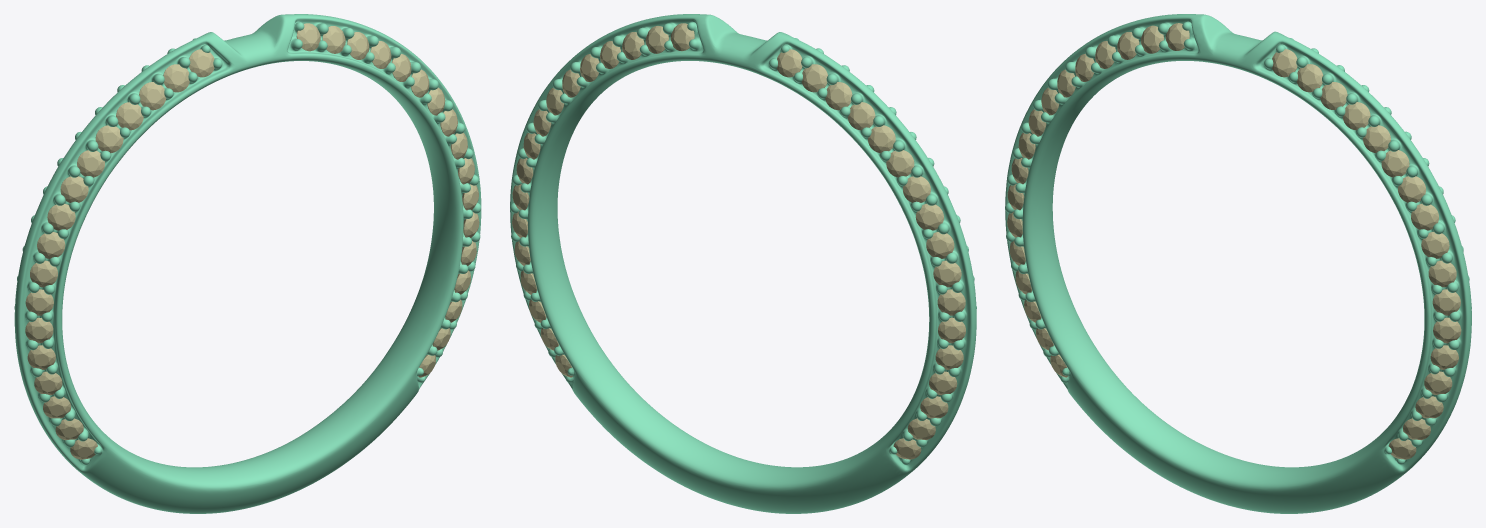
3 renders of one model, left to right at view 1: azimuth 30°, elevation 25°; view 2: azimuth 150°, elevation 25°; view 3: azimuth 330°, elevation 25°, orthographic.
Visible parts, largest first — view 1: Metal02, Diamond_Gem.012, Diamond_Gem.064, Diamond_Gem.066, Diamond_Gem.051, Diamond_Gem.065, Diamond_Gem.037, Diamond_Gem.067, Diamond_Gem.036, Diamond_Gem.038, Diamond_Gem.023, Diamond_Gem.011 (+2 smaller); view 2: Metal02, Diamond_Gem.053, Diamond_Gem.024, Diamond_Gem.014, Diamond_Gem.015, Diamond_Gem.003, Diamond_Gem.013, Diamond_Gem.039, Diamond_Gem.025, Diamond_Gem.040, Diamond_Gem.052, Diamond_Gem.016 (+2 smaller); view 3: Metal02, Diamond_Gem.048, Diamond_Gem.047, Diamond_Gem.002, Diamond_Gem.033, Diamond_Gem.059, Diamond_Gem.046, Diamond_Gem.008, Diamond_Gem.034, Diamond_Gem.009, Diamond_Gem.058, Diamond_Gem (+2 smaller).
Part boxes in pixels (<box>): Metal02: <box>14,14,481,513</box>; Diamond_Gem.012: <box>60,176,88,202</box>; Diamond_Gem.064: <box>47,203,75,230</box>; Diamond_Gem.066: <box>139,82,166,110</box>; Diamond_Gem.051: <box>95,125,123,153</box>; Diamond_Gem.065: <box>77,150,104,177</box>; Diamond_Gem.037: <box>116,102,143,130</box>; Diamond_Gem.067: <box>163,64,189,92</box>; Diamond_Gem.036: <box>37,232,65,258</box>; Diamond_Gem.038: <box>189,49,214,77</box>; Diamond_Gem.023: <box>30,260,57,287</box>; Diamond_Gem.011: <box>25,289,53,315</box>; Metal02: <box>510,14,976,513</box>; Diamond_Gem.053: <box>886,150,914,177</box>; Diamond_Gem.024: <box>868,125,895,153</box>; Diamond_Gem.014: <box>847,102,875,130</box>; Diamond_Gem.015: <box>903,176,930,202</box>; Diamond_Gem.003: <box>915,203,943,230</box>; Diamond_Gem.013: <box>825,82,852,110</box>; Diamond_Gem.039: <box>801,64,827,92</box>; Diamond_Gem.025: <box>926,232,954,258</box>; Diamond_Gem.040: <box>933,260,961,287</box>; Diamond_Gem.052: <box>777,49,802,77</box>; Diamond_Gem.016: <box>937,289,965,315</box>; Metal02: <box>1005,14,1471,513</box>; Diamond_Gem.048: <box>1381,150,1409,177</box>; Diamond_Gem.047: <box>1342,102,1370,130</box>; Diamond_Gem.002: <box>1363,125,1390,152</box>; Diamond_Gem.033: <box>1398,176,1425,202</box>; Diamond_Gem.059: <box>1411,203,1438,230</box>; Diamond_Gem.046: <box>1320,82,1347,109</box>; Diamond_Gem.008: <box>1296,64,1323,92</box>; Diamond_Gem.034: <box>1421,231,1449,258</box>; Diamond_Gem.009: <box>1428,260,1456,287</box>; Diamond_Gem.058: <box>1272,49,1297,77</box>; Diamond_Gem: <box>1432,289,1460,315</box>.
Bounding box in the file's own units: 20.91 × 20.77 × 2.01.
